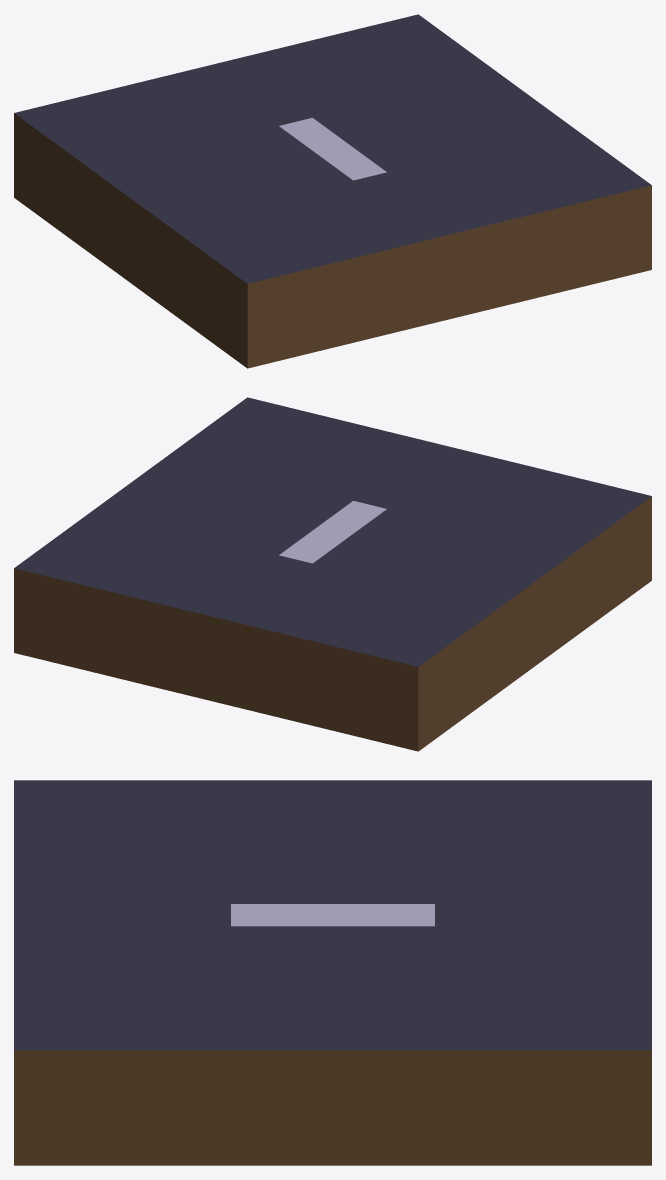
The model's file is road_1_car.fbx.
3 views of the same model, one above another, from view 1: azimuth 30°, elevation 25°; view 2: azimuth 150°, elevation 25°; view 3: azimuth 270°, elevation 25° (orthographic). The views are drawn at different scales.
Visible parts, largest first — view 1: Cube.051; view 2: Cube.051; view 3: Cube.051.
Part boxes in pixels (<box>): Cube.051: <box>14,14,651,368</box>; Cube.051: <box>14,397,651,751</box>; Cube.051: <box>14,780,651,1165</box>.
Bounding box in the file's own units: 1000 × 200 × 1000.
Materials: 1 (1 with a texture image).
